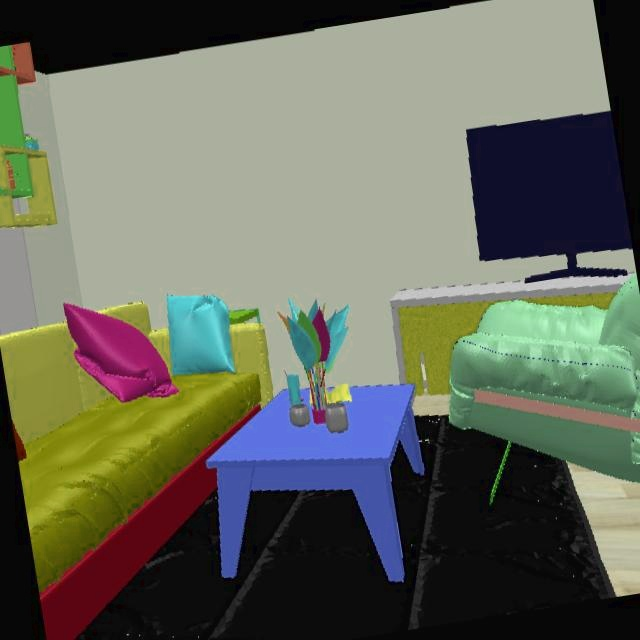monitor: (465, 111, 633, 268)
pillow: (73, 305, 180, 404), (166, 294, 236, 377)
sofa: (0, 303, 274, 640), (448, 277, 640, 485)
table: (207, 384, 425, 588)
